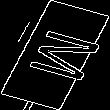M_E: (11, 25, 99, 85)
